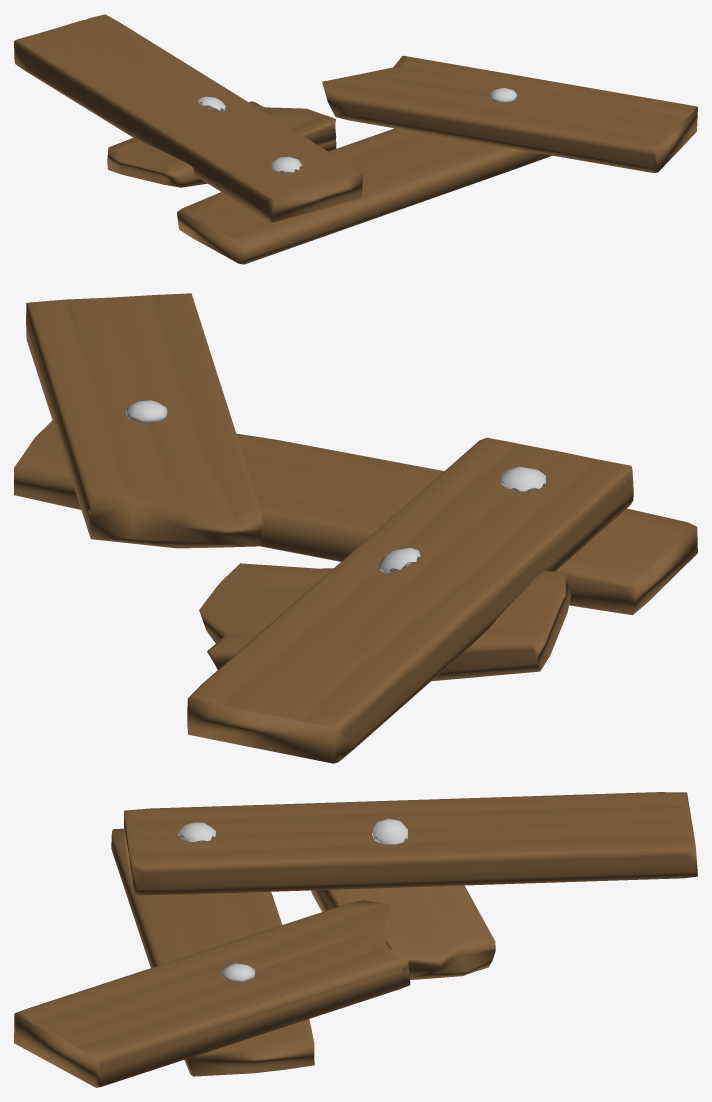
Rendered from plank_3.fbx.
3 renders of one model, top to bottom at view 1: azimuth 30°, elevation 25°; view 2: azimuth 150°, elevation 25°; view 3: azimuth 270°, elevation 25°, orthographic. The views are drawn at different scales.
Visible parts, largest first — view 1: plank.001, plankb..002, plank thin, plank broke.001, N barry.001; view 2: plank.001, plankb..002, plank thin, plank broke.001, N barry.001, N larry, N barry.002; view 3: plank.001, plankb..002, plank thin, plank broke.001, N barry.002, N barry.001, N larry.
Part boxes in pixels (<box>): plank.001: <box>14,14,362,222</box>; plankb..002: <box>322,55,697,172</box>; plank thin: <box>177,128,551,264</box>; plank broke.001: <box>107,101,336,187</box>; N barry.001: <box>271,156,302,172</box>; plank.001: <box>187,437,633,763</box>; plankb..002: <box>26,293,262,548</box>; plank thin: <box>14,420,697,615</box>; plank broke.001: <box>199,563,570,681</box>; N barry.001: <box>500,466,546,491</box>; N larry: <box>125,400,167,423</box>; N barry.002: <box>379,547,420,573</box>; plank.001: <box>124,792,697,895</box>; plankb..002: <box>14,900,410,1087</box>; plank thin: <box>111,828,314,1076</box>; plank broke.001: <box>311,885,495,979</box>; N barry.002: <box>372,818,408,844</box>; N barry.001: <box>178,822,216,842</box>; N larry: <box>221,963,255,981</box>.
Size of the model in its own units: 6273 by 1041 by 6473.
